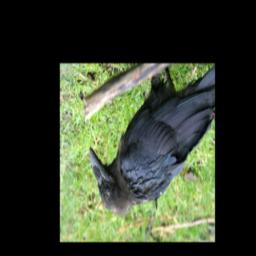Crow: (88, 64, 215, 216)
